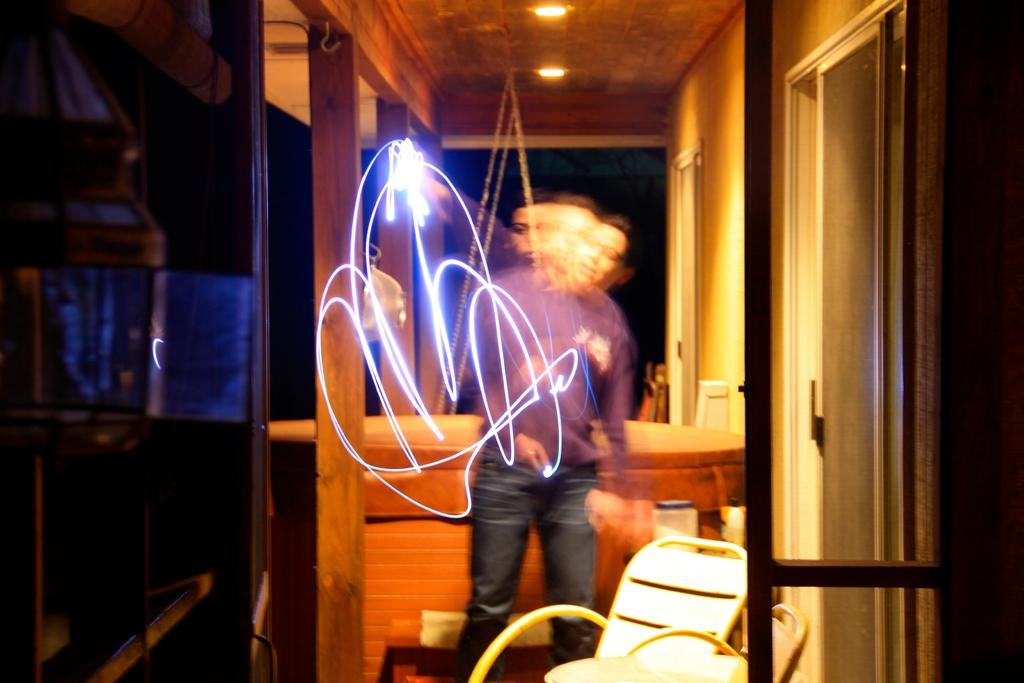Chair: (465, 530, 813, 682)
